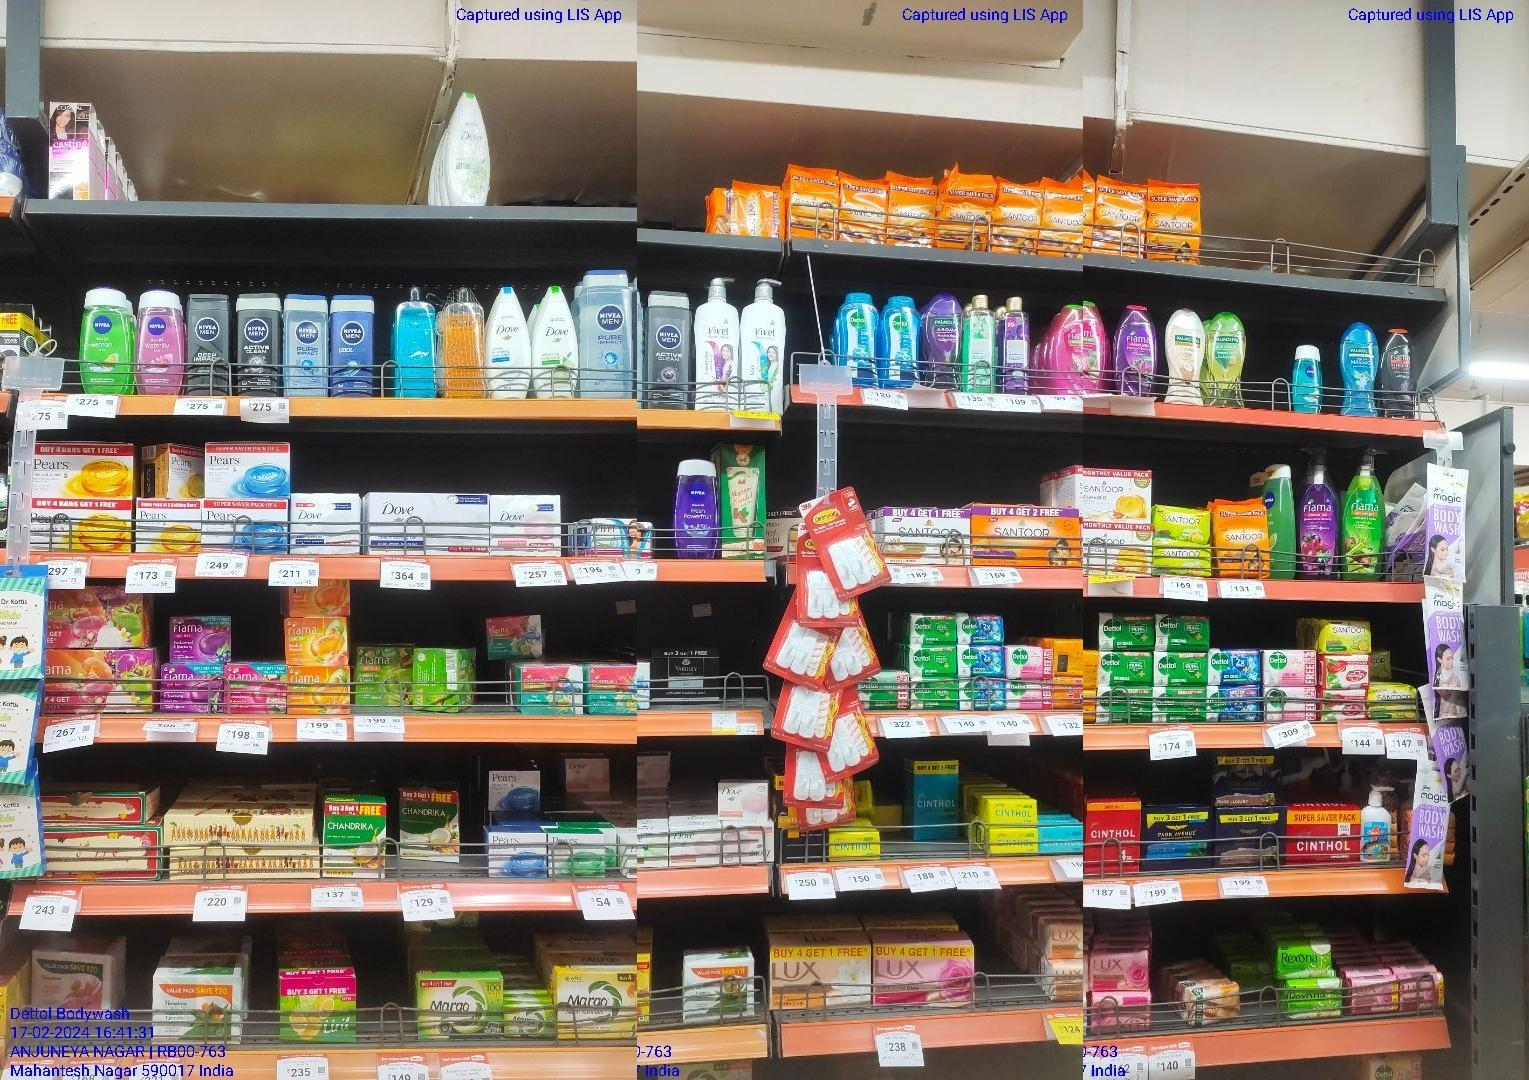Dettol_Bodywash_Cool: (839, 292, 878, 387), (883, 296, 919, 386)
Dove_Gentle_Exfoliating_Body_Wash_250ML: (485, 283, 530, 395)
Dove_Refreshing_Body_Wash_250ML: (533, 281, 575, 397)
Fiama_Shower_Gel_Patchouli_and_Macadamia_250ML: (1084, 297, 1107, 393)
Lux_Black_Orchid_Scent_and_Juniper_Oil_Body_Wash_245ML: (1001, 297, 1029, 393)
Lux_Body_Wash_Skin_Detox_Freesia_Scent_and_Alove_Vera_245ML: (966, 292, 997, 393)
Nivea_Shower_Gel_Fresh_Powerfruit_250ML: (676, 463, 718, 558)
Nivea_Shower_Gel_Lemon_and_Oil_250ML: (79, 289, 131, 393)
Nivea_Shower_Gel_Waterlily_and_Oil_250ML: (137, 286, 186, 394)
Palmolive_Aroma_Moments_Feel_The_Massage_Shower_Gel_250ML: (1340, 321, 1377, 418)
Palmolive_Aroma_Morning_Tonic_Shower_Gel_250ML: (1205, 312, 1244, 408)
Palmolive_Aroma_Relax_250ML: (923, 293, 960, 389)
Palmolive_Coconut_Joy_Exfoliating_Body_Wash_250ML: (1165, 309, 1203, 404)
Pears_Pure_Glycerin_and_Mint_Extracts_Body_Wash_250ML: (397, 289, 437, 397)
